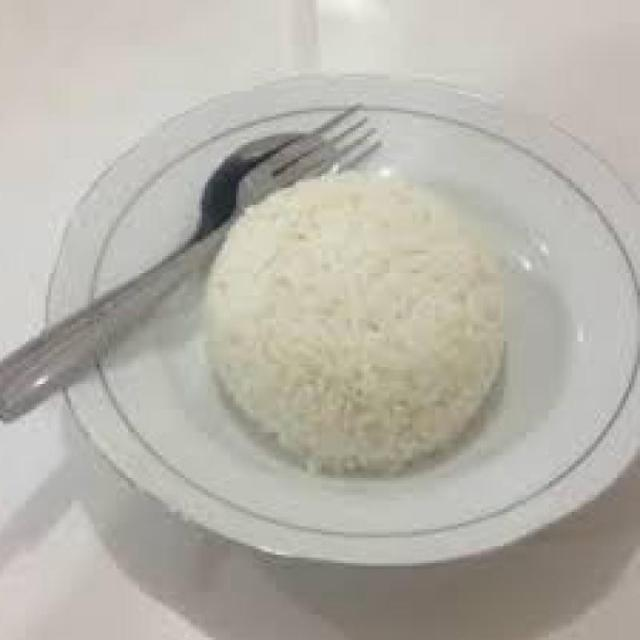nasi_putih: (202, 169, 508, 478)
